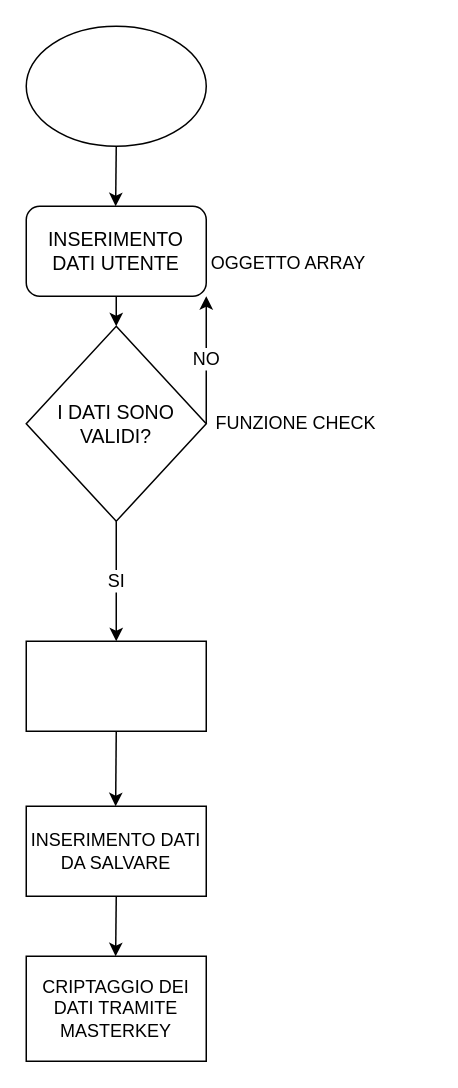
This 458x1088 diagram has some shape labels left out. The shapes that lost their labels are listed below. From the top down, each one's box as (x1, y1, x2, y2) in pixels, then its label:
(25, 25, 206, 146): START - LOGIN
(25, 640, 206, 731): ACCESSO AL PROFILO
